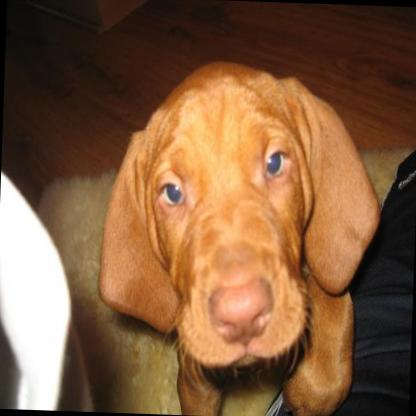vizsla: (93, 54, 382, 416)
